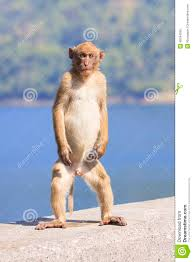monkey: (48, 31, 146, 243)
